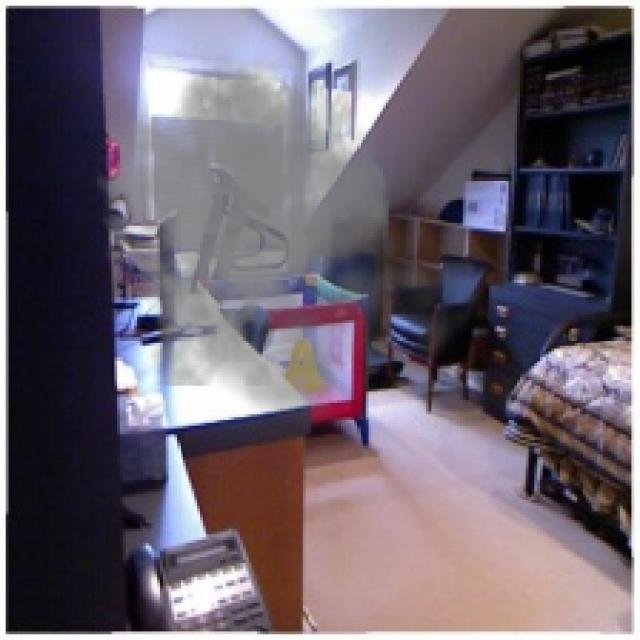smoke: (94, 37, 494, 434)
